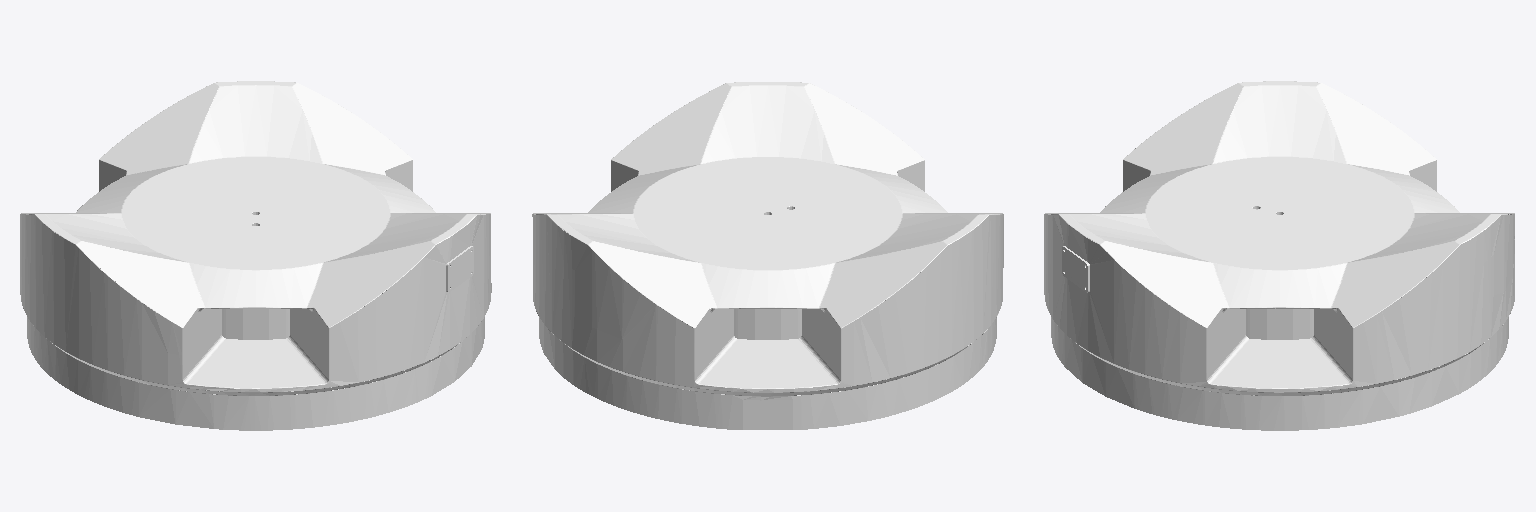
URDF robot description (interface_pas_coractive_20261026):
<?xml version="1.0" encoding="utf-8"?>
<!-- This URDF was automatically created by SolidWorks to URDF Exporter! Originally created by Stephen Brawner (brawner@gmail.com) 
     Commit Version: 1.6.0-4-g7f85cfe  Build Version: 1.6.7995.38578
     For more information, please see http://wiki.ros.org/sw_urdf_exporter -->
<robot
  name="interface_pas_coractive_20261026">
  <link
    name="base_link">
    <inertial>
      <origin
        xyz="0.00012081 7.1779E-05 -0.036715"
        rpy="0 0 0" />
      <mass
        value="1.6884" />
      <inertia
        ixx="0.021988"
        ixy="2.2787E-05"
        ixz="2.2964E-06"
        iyy="0.021917"
        iyz="3.6136E-06"
        izz="0.038493" />
    </inertial>
    <visual>
      <origin
        xyz="0 0 0"
        rpy="0 0 0" />
      <geometry>
        <mesh
          filename="package://interface_pas_coractive_20261026/meshes/base_link.STL" />
      </geometry>
      <material
        name="">
        <color
          rgba="1 1 1 1" />
      </material>
    </visual>
    <collision>
      <origin
        xyz="0 0 0"
        rpy="0 0 0" />
      <geometry>
        <mesh
          filename="package://interface_pas_coractive_20261026/meshes/base_link.STL" />
      </geometry>
    </collision>
  </link>
  <link
    name="link_pas">
    <inertial>
      <origin
        xyz="-0.00078816 -0.00042269 -0.034796"
        rpy="0 0 0" />
      <mass
        value="1.8906" />
      <inertia
        ixx="0.02104"
        ixy="-4.8788E-05"
        ixz="-3.6942E-05"
        iyy="0.021206"
        iyz="-1.1299E-05"
        izz="0.038084" />
    </inertial>
    <visual>
      <origin
        xyz="0 0 0"
        rpy="0 0 0" />
      <geometry>
        <mesh
          filename="package://interface_pas_coractive_20261026/meshes/link_pas.STL" />
      </geometry>
      <material
        name="">
        <color
          rgba="1 1 1 1" />
      </material>
    </visual>
    <collision>
      <origin
        xyz="0 0 0"
        rpy="0 0 0" />
      <geometry>
        <mesh
          filename="package://interface_pas_coractive_20261026/meshes/link_pas.STL" />
      </geometry>
    </collision>
  </link>
  <joint
    name="joint_pas"
    type="fixed">
    <origin
      xyz="7.0991E-05 -5.3304E-05 0"
      rpy="3.1416 0 0" />
    <parent
      link="base_link" />
    <child
      link="link_pas" />
    <axis
      xyz="0 0 0" />
  </joint>
</robot>

--- Facts derived from the render (not from the file) ---
3 views of the same robot in one strip: view 1: azimuth 30°, elevation 25°; view 2: azimuth 150°, elevation 25°; view 3: azimuth 270°, elevation 25° (orthographic).
Robot: interface_pas_coractive_20261026 — 2 links, 1 joints (1 fixed); root link base_link; default pose: all joints at 0.
Links seen in each view (by area): view 1: base_link; view 2: base_link; view 3: base_link.
Link boxes in pixels (x1,y1,x2,y2): base_link: (20,81,491,430); base_link: (532,82,1003,429); base_link: (1044,81,1514,430).
Size in the robot's own frame: 0.35 by 0.35 by 0.126 metres.
1 mesh visuals loaded from 2 distinct referenced files (1 binary STL); not drawn: 1 (reference not matched to a file when rendering).
